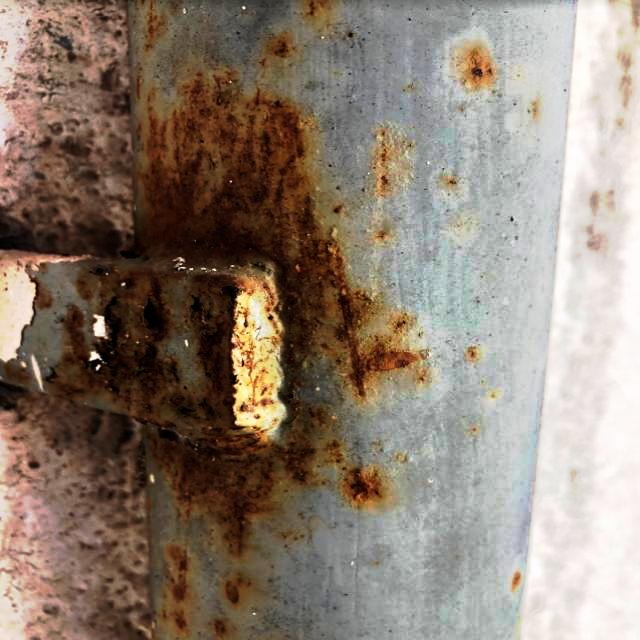Corrosion: (4, 0, 432, 562), (154, 545, 191, 640), (375, 127, 394, 196), (466, 47, 495, 87), (224, 577, 251, 606), (270, 34, 293, 56), (305, 0, 332, 16), (216, 621, 226, 640), (467, 347, 479, 360)
